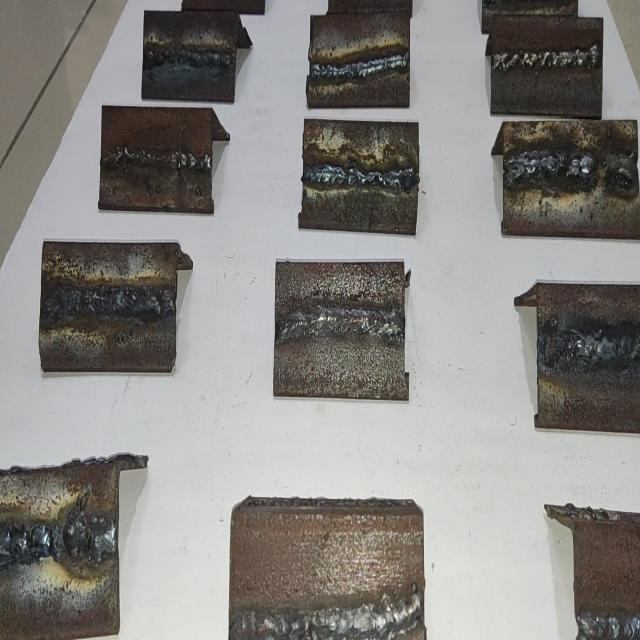Bad Weld: (0, 519, 116, 567), (505, 145, 635, 187), (42, 283, 176, 322), (541, 329, 640, 367)
Defect: (0, 522, 114, 567), (540, 324, 590, 368), (43, 281, 86, 321), (591, 147, 622, 194)
Good Weld: (230, 586, 418, 640), (277, 304, 404, 346), (304, 158, 418, 191), (310, 48, 408, 84), (494, 46, 601, 72), (102, 148, 212, 171), (142, 46, 235, 70), (578, 610, 640, 639)
